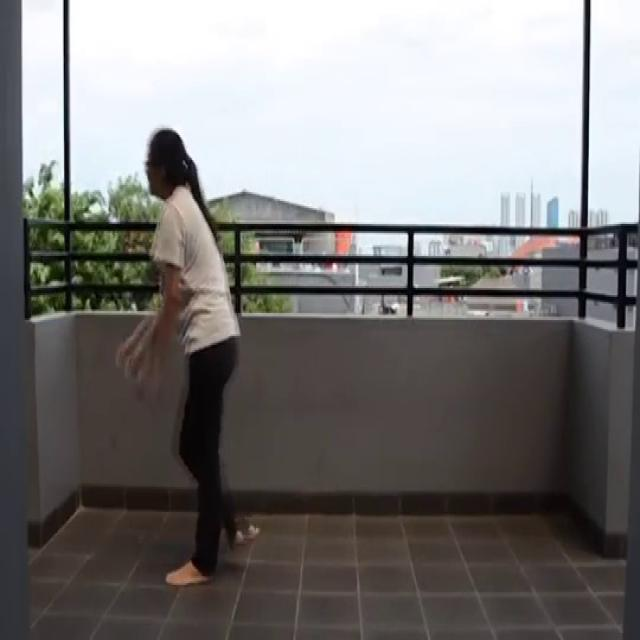normal: (114, 114, 269, 594)
